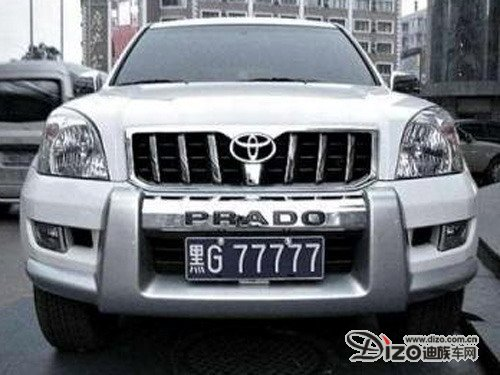plate_number: (183, 235, 326, 285)
